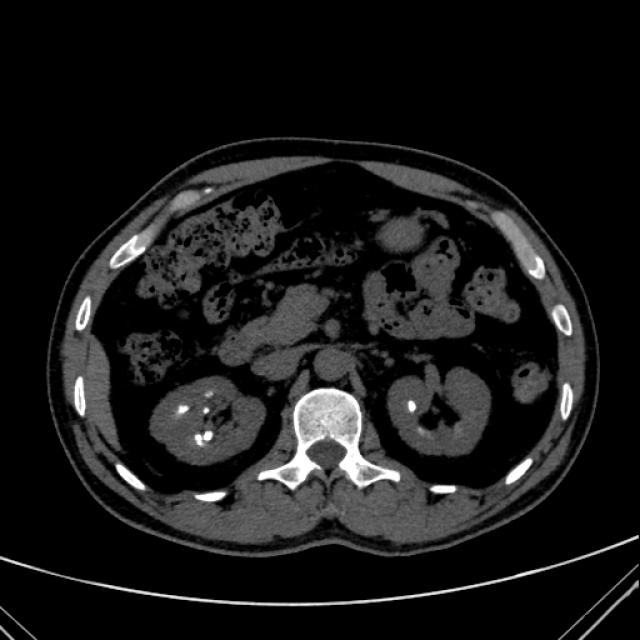kidneystone: (195, 431, 212, 441), (178, 405, 189, 413), (408, 404, 416, 413), (204, 391, 212, 399), (202, 408, 210, 413)
